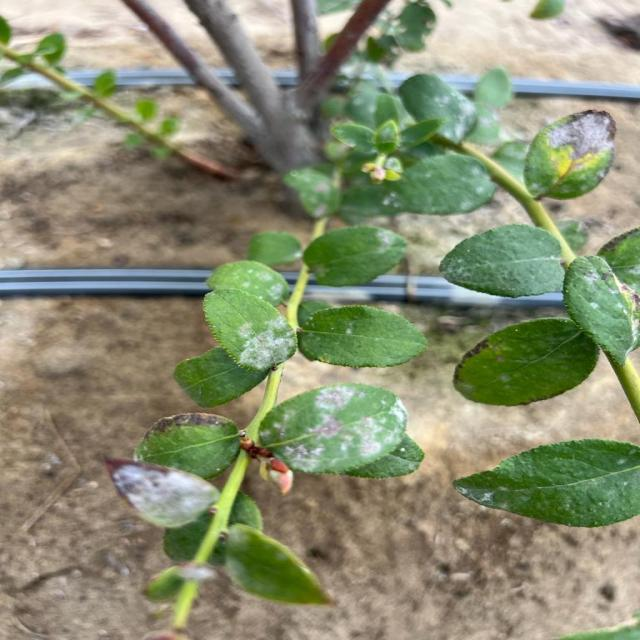Hojas con oidiosis: (452, 316, 600, 406), (435, 223, 569, 297), (292, 304, 428, 369), (201, 287, 301, 373), (520, 109, 614, 199)
